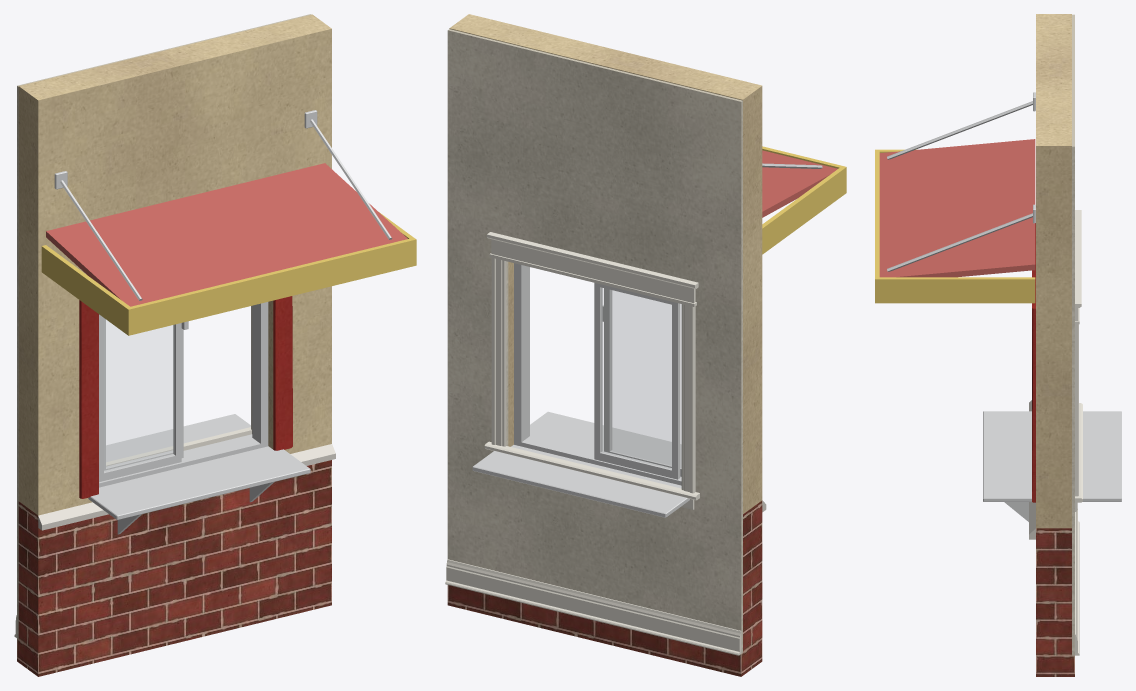
The picture shows the model from 3 angles, left to right: view 1: azimuth 30°, elevation 25°; view 2: azimuth 150°, elevation 25°; view 3: azimuth 270°, elevation 25°; orthographic projection. The views are drawn at different scales.
Visible parts, largest first — view 1: w_dt_render, w_dt_brick, w_dt_redm, w_dt_steel, w_dt_accent, w_dt_glass, w_dt_red, w_dt_plaster, w_dt_cill, molduras; view 2: w_dt_plaster, molduras, w_dt_steel, w_dt_render, w_dt_glass, w_dt_brick, w_dt_accent, w_dt_redm; view 3: w_dt_redm, w_dt_render, w_dt_steel, w_dt_brick, w_dt_accent, molduras, w_dt_plaster, w_dt_red.
Boxes of the visible parts, x1,y1,x2,y2 form: w_dt_render: (18,14,331,515); w_dt_brick: (17,460,331,676); w_dt_redm: (46,163,407,306); w_dt_steel: (54,110,392,534); w_dt_accent: (41,211,416,335); w_dt_glass: (104,319,174,471); w_dt_red: (79,296,292,498); w_dt_plaster: (17,14,311,639); w_dt_cill: (38,444,335,530); molduras: (14,306,251,637); w_dt_plaster: (447,29,742,653); molduras: (445,232,741,655); w_dt_steel: (472,163,822,517); w_dt_render: (449,14,762,513); w_dt_glass: (601,288,671,468); w_dt_brick: (447,500,762,676); w_dt_accent: (762,146,846,254); w_dt_redm: (762,150,837,217); w_dt_redm: (879,139,1035,277); w_dt_render: (1036,14,1071,528); w_dt_steel: (887,92,1121,521); w_dt_brick: (1036,528,1074,676); w_dt_accent: (875,149,1035,303); molduras: (1075,210,1082,655); w_dt_plaster: (1072,14,1074,655); w_dt_red: (1032,223,1035,502).
Bounding box in the file's own units: 2 × 3.75 × 1.58.
11 materials, 4 textured.
